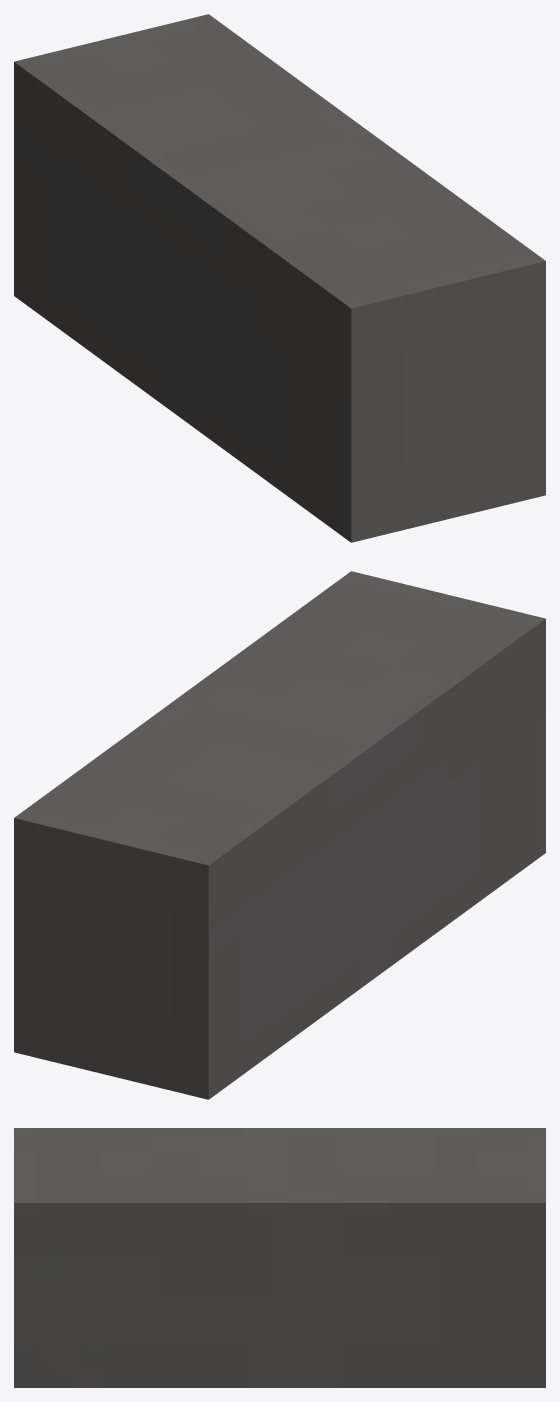
File: frame__front_yoke_stem.glb
3 renders of one model, top to bottom at view 1: azimuth 30°, elevation 25°; view 2: azimuth 150°, elevation 25°; view 3: azimuth 270°, elevation 25°, orthographic. The views are drawn at different scales.
Visible parts, largest first — view 1: world; view 2: world; view 3: world.
Boxes of the visible parts, box(x1,y1,x2,y2) form: world: box(14, 14, 545, 542); world: box(14, 571, 545, 1099); world: box(14, 1128, 545, 1387).
Size of the model in its own units: 0.1 by 0.115 by 0.3.
1 material, 1 textured.
